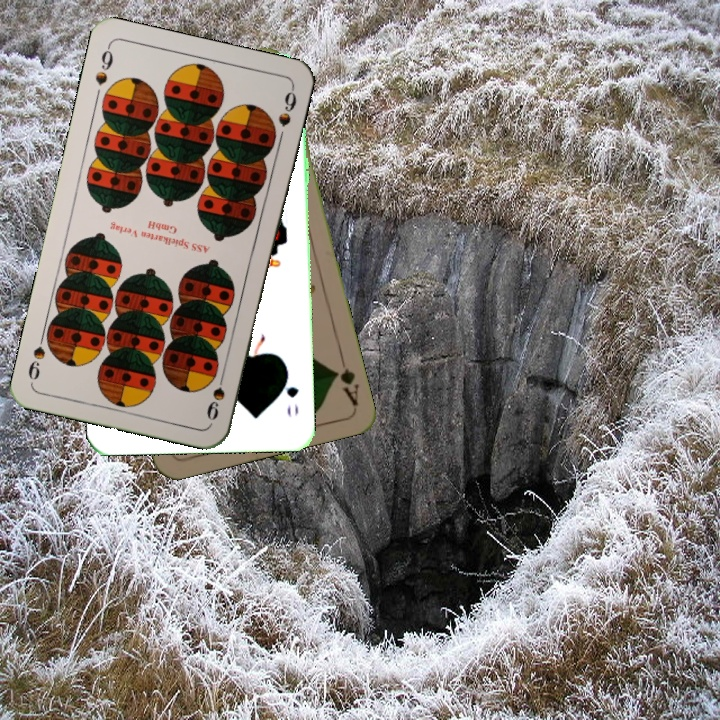GA: (329, 350, 361, 409)
GO: (278, 366, 301, 420)
S9: (202, 365, 228, 424), (91, 42, 116, 88)
